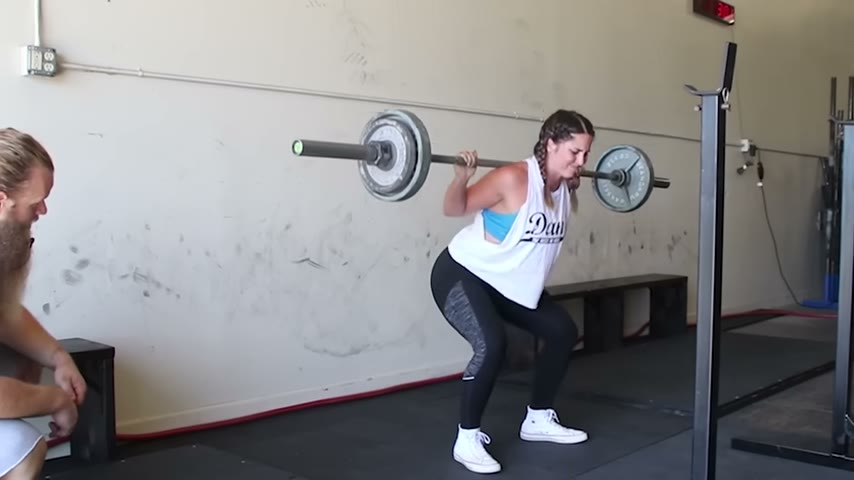barbell_plate_side: (289, 102, 395, 213), (594, 101, 673, 219)
